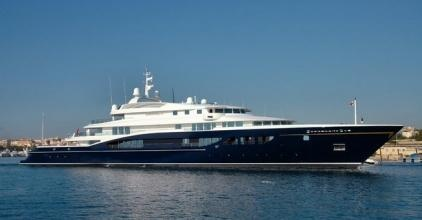yacht: (23, 74, 397, 168)
